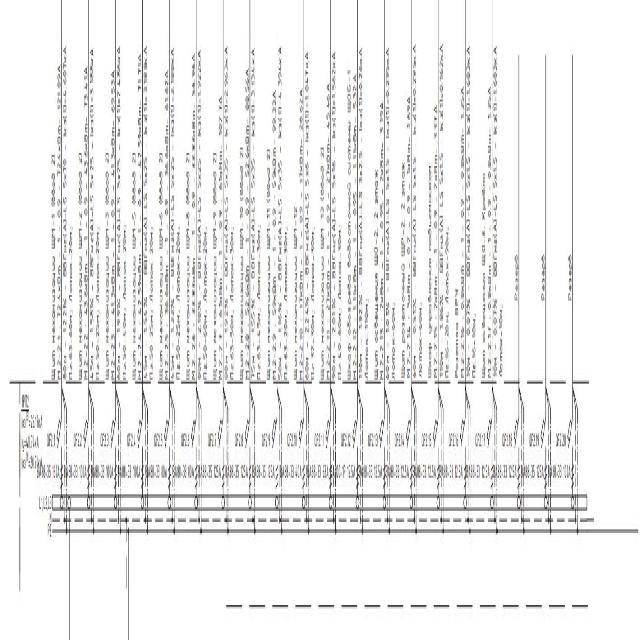-: (251, 460, 275, 481), (439, 462, 464, 482), (306, 463, 330, 483), (358, 462, 382, 482), (64, 462, 88, 482), (548, 461, 572, 481), (171, 462, 195, 482), (412, 461, 436, 481), (521, 462, 545, 482), (466, 462, 490, 482), (492, 461, 516, 481), (385, 462, 409, 482), (36, 461, 60, 481), (91, 462, 114, 482), (144, 462, 167, 482), (332, 462, 355, 482), (198, 461, 221, 481), (117, 463, 140, 483), (225, 462, 248, 482), (279, 461, 302, 481), (21, 391, 29, 409)
QF: (244, 414, 253, 490), (378, 416, 386, 491), (540, 416, 548, 491), (324, 416, 332, 491), (136, 413, 144, 487), (406, 415, 414, 489), (432, 415, 440, 489), (190, 415, 198, 489), (271, 415, 279, 489), (566, 416, 574, 490), (298, 412, 306, 486), (512, 415, 520, 489), (56, 418, 64, 492), (486, 415, 494, 489), (458, 416, 466, 490), (163, 418, 170, 492), (352, 416, 359, 490), (218, 415, 225, 489), (110, 414, 117, 488), (84, 414, 90, 488)
